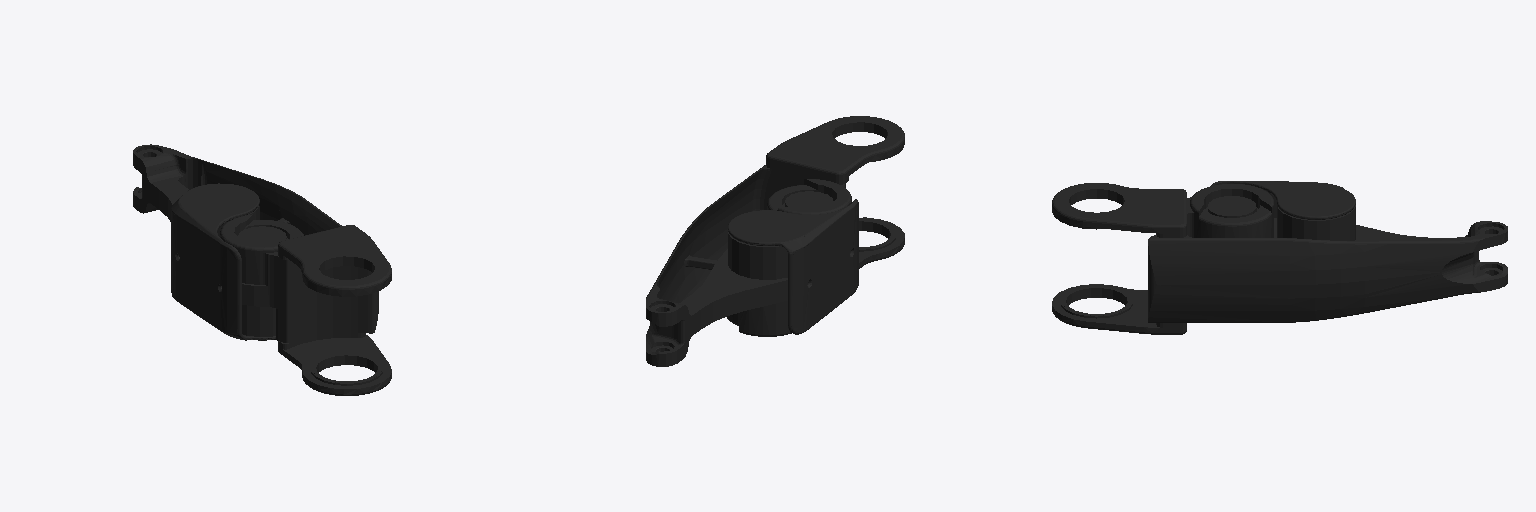
The model's file is Shank_left.obj.
3 renders of one model, left to right at view 1: azimuth 30°, elevation 25°; view 2: azimuth 150°, elevation 25°; view 3: azimuth 270°, elevation 25°, orthographic.
Visible parts, largest first — view 1: Shank_Left; view 2: Shank_Left; view 3: Shank_Left.
Part boxes in pixels (bbox=[...]): Shank_Left: bbox=[133, 144, 391, 395]; Shank_Left: bbox=[646, 116, 904, 366]; Shank_Left: bbox=[1052, 181, 1507, 334].
Bounding box in the file's own units: 0.0988 × 0.086 × 0.3239.